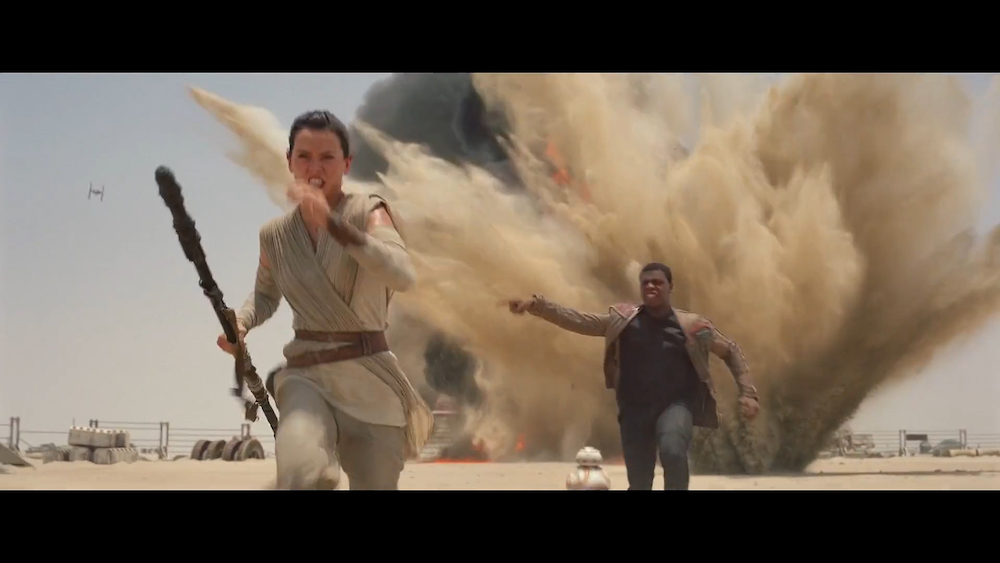Tie Fighter: (89, 182, 105, 203)
